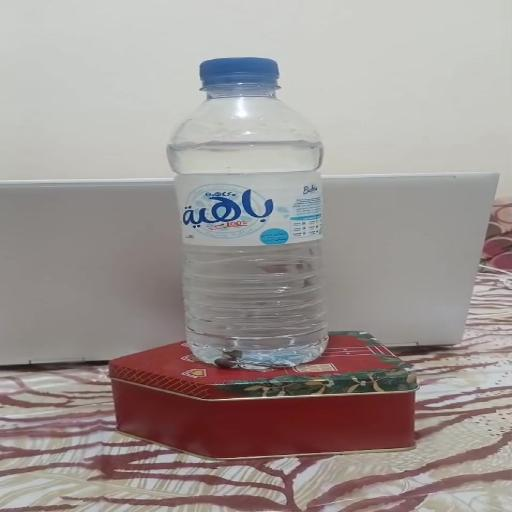bouteille conformite: (168, 52, 349, 368), (171, 54, 341, 364)
